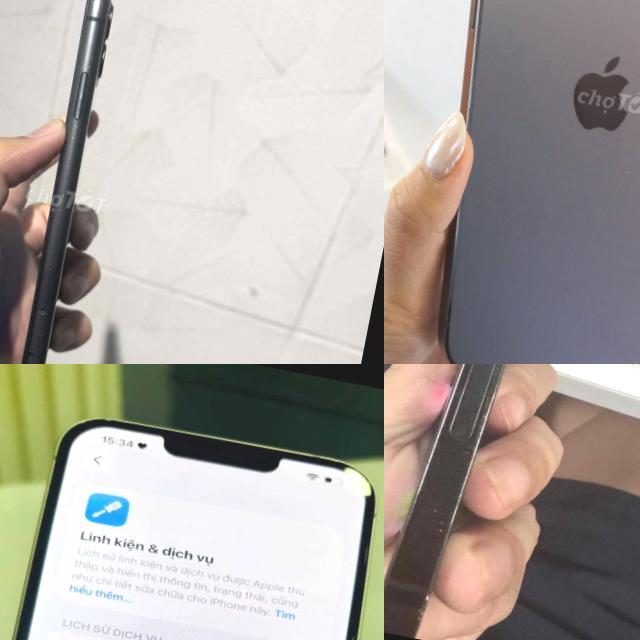gen_11: (0, 0, 152, 364)
gen_14: (384, 0, 640, 364), (384, 364, 635, 640)
